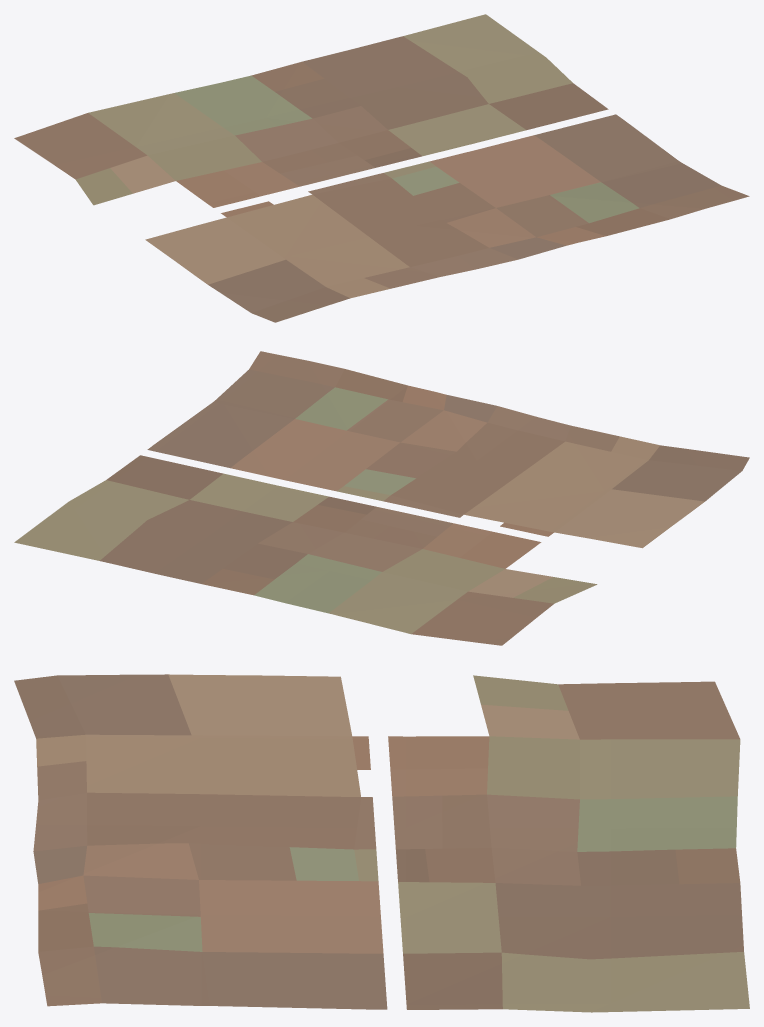
File: farm_19_18_soil.glb
3 views of the same model, one above another, from view 1: azimuth 30°, elevation 25°; view 2: azimuth 150°, elevation 25°; view 3: azimuth 270°, elevation 25° (orthographic). The views are drawn at different scales.
Visible parts, largest first — view 1: geometry_0; view 2: geometry_0; view 3: geometry_0.
Part boxes in pixels (x1,y1,x2,y2): geometry_0: (14,14,749,322); geometry_0: (14,351,749,645); geometry_0: (14,674,749,1012).
Size of the model in its own units: 308 by 5.05 by 288.
